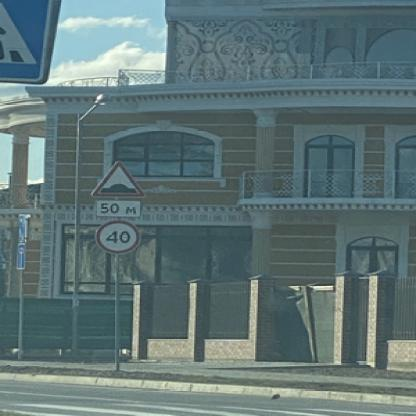speedlimit: (92, 219, 138, 253)
